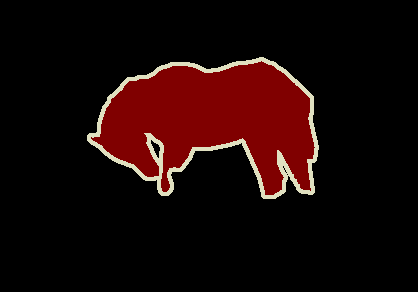horse: (89, 61, 321, 204)
